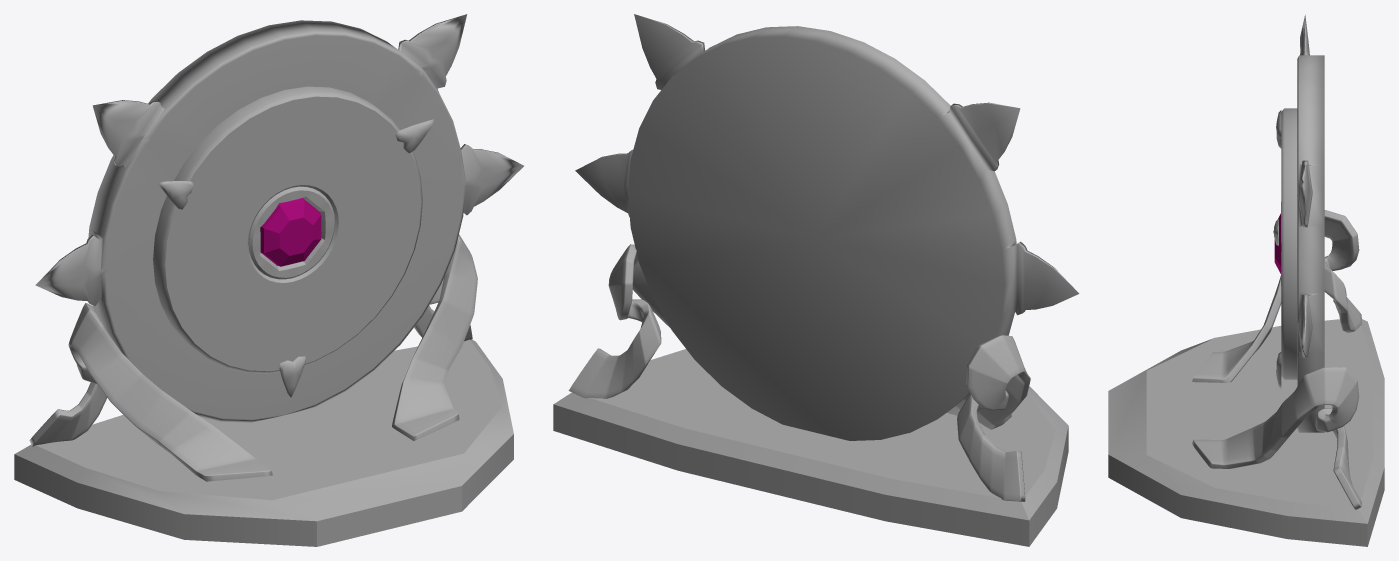
The model's file is Gate_3rd.fbx.
3 views of the same model, side by side, from view 1: azimuth 30°, elevation 25°; view 2: azimuth 150°, elevation 25°; view 3: azimuth 270°, elevation 25° (orthographic). The views are drawn at different scales.
Visible parts, largest first — view 1: Base, Gate_outer_ring_Static, Inner_ring, Gem; view 2: Gate_outer_ring_Static, Base; view 3: Base, Gate_outer_ring_Static, Inner_ring.
Boxes of the visible parts, bbox=[...] form: Base: bbox=[14, 234, 513, 546]; Gate_outer_ring_Static: bbox=[35, 14, 523, 422]; Inner_ring: bbox=[153, 86, 433, 397]; Gem: bbox=[260, 198, 321, 266]; Gate_outer_ring_Static: bbox=[575, 14, 1079, 440]; Base: bbox=[553, 244, 1068, 546]; Base: bbox=[1108, 210, 1384, 546]; Gate_outer_ring_Static: bbox=[1281, 15, 1324, 432]; Inner_ring: bbox=[1273, 108, 1297, 388].
Size of the model in its own units: 531 by 431 by 289.
